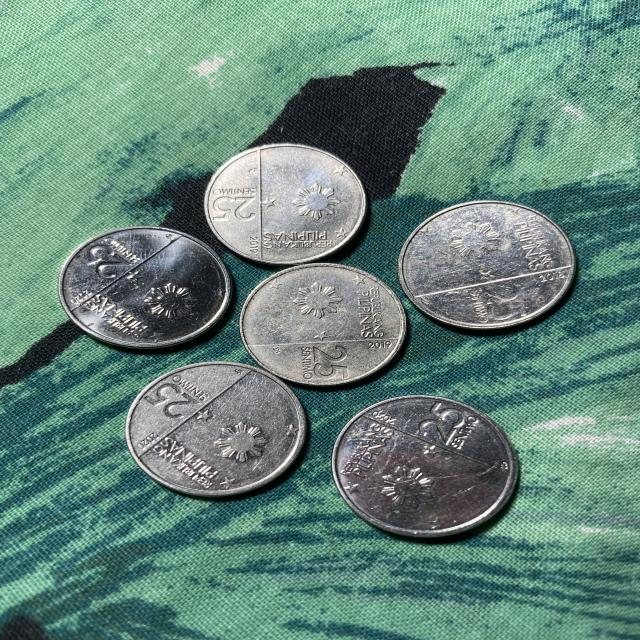25Cent_New_Front: (81, 244, 133, 279), (418, 403, 466, 440), (145, 385, 194, 418), (309, 346, 356, 379), (483, 285, 526, 320), (211, 195, 262, 224)
